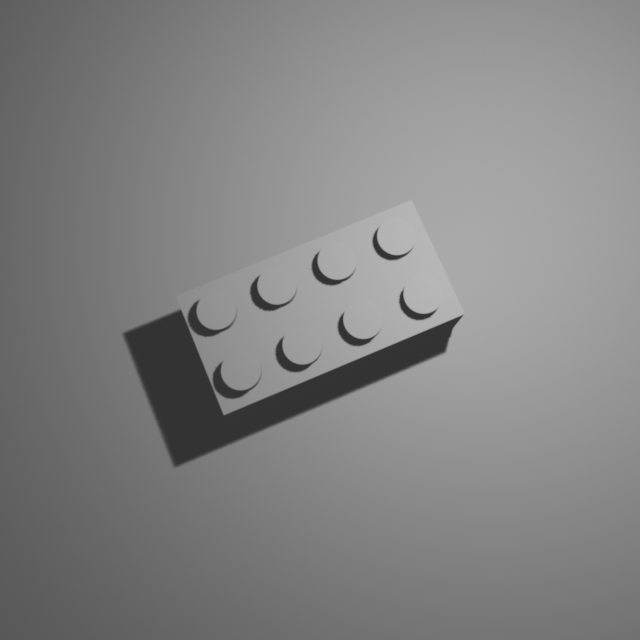lego_2x4: (174, 196, 467, 422)
